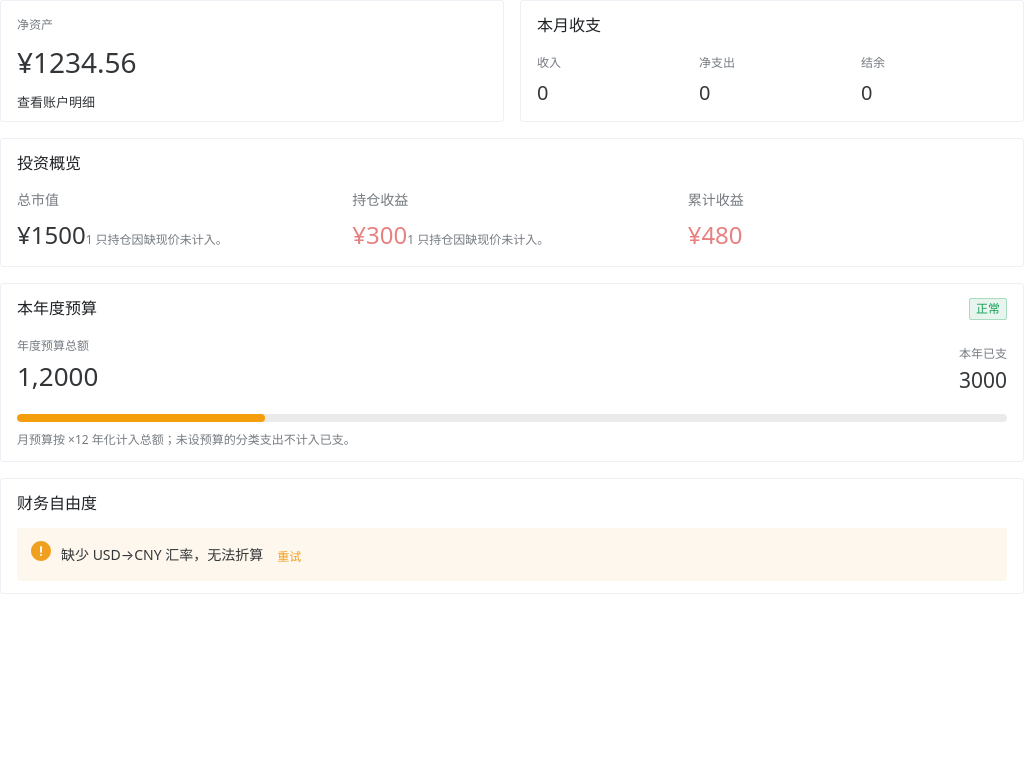
it: DashboardView 财务自由度卡（issue #344） › 缺汇率时卡内警告提示，可重试恢复
The image size is (1024, 768).
Check: the element with test id "financial-freedom-card" shows "缺少 USD→CNY 汇率，无法折算", box [61,545,263,564]
Check: the element with test id "financial-freedom-card" does not show "%"
Click the button "重试": (289,557) [271,546,307,568]
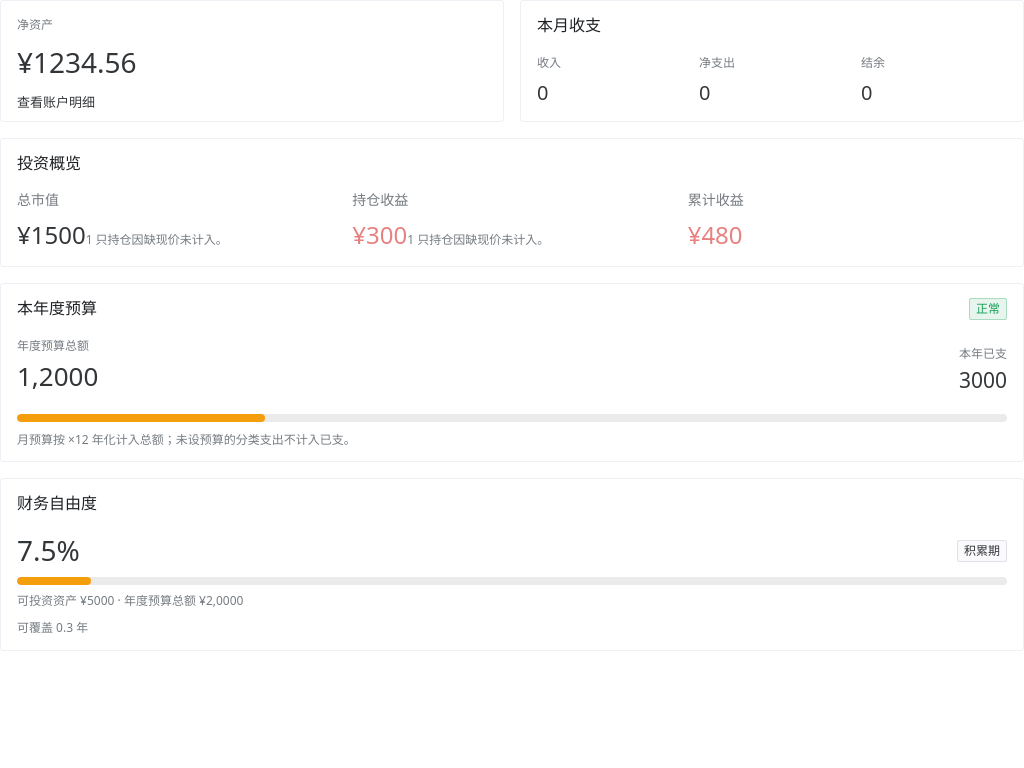
Check: the text with test id "financial-freedom-ratio" reads "7.5%", box [17,531,80,569]
